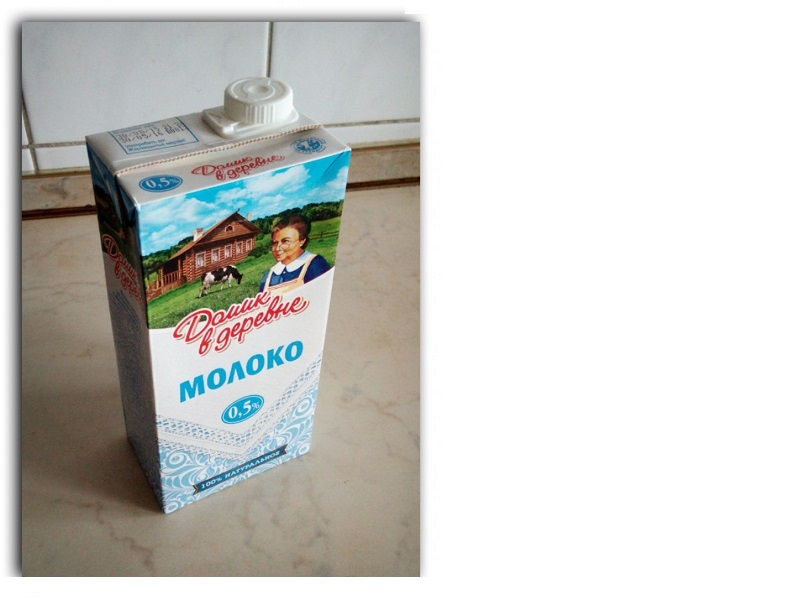milk: (57, 68, 387, 539)
